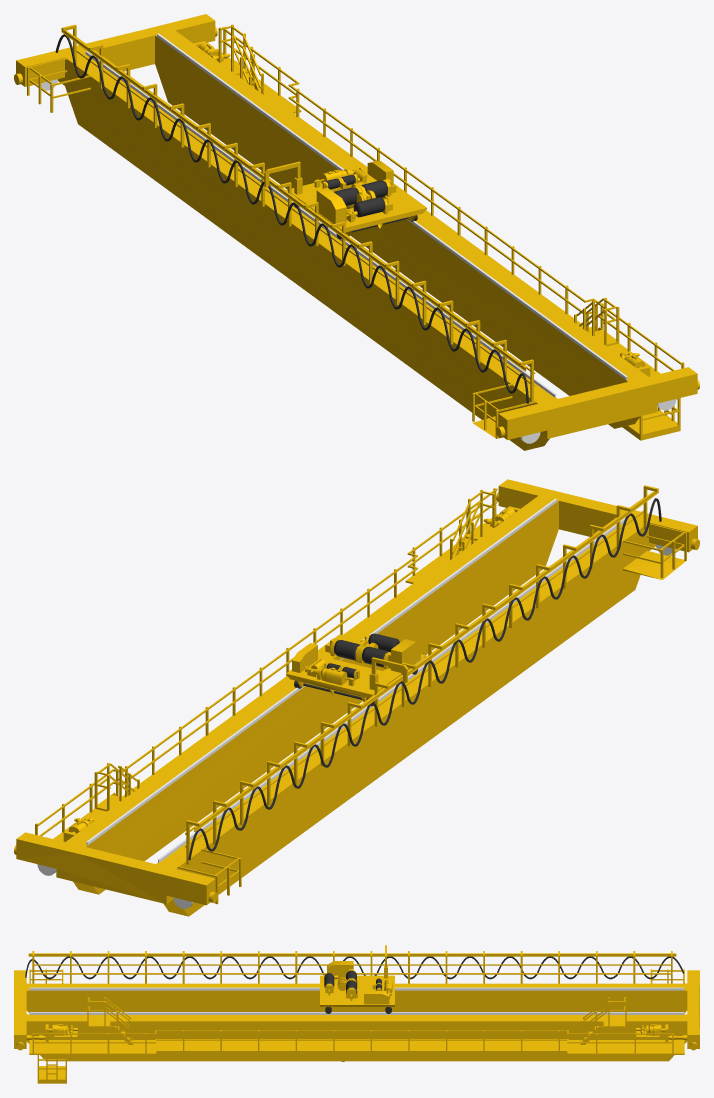
3 renders of one model, top to bottom at view 1: azimuth 30°, elevation 25°; view 2: azimuth 150°, elevation 25°; view 3: azimuth 270°, elevation 25°, orthographic. The views are drawn at different scales.
Parts seen in each view (by area): view 1: 3_Bay_C_801_Body, 3_Bay_C_801_Head; view 2: 3_Bay_C_801_Body, 3_Bay_C_801_Head; view 3: 3_Bay_C_801_Body, 3_Bay_C_801_Head.
Boxes of the visible parts, x1,y1,x2,y2 form: 3_Bay_C_801_Body: (14,14,699,450); 3_Bay_C_801_Head: (264,161,427,239); 3_Bay_C_801_Body: (14,479,699,916); 3_Bay_C_801_Head: (286,633,426,706); 3_Bay_C_801_Body: (14,951,699,1083); 3_Bay_C_801_Head: (320,945,394,1061).
Bounding box in the file's own units: 8.21 × 5.29 × 35.2.
